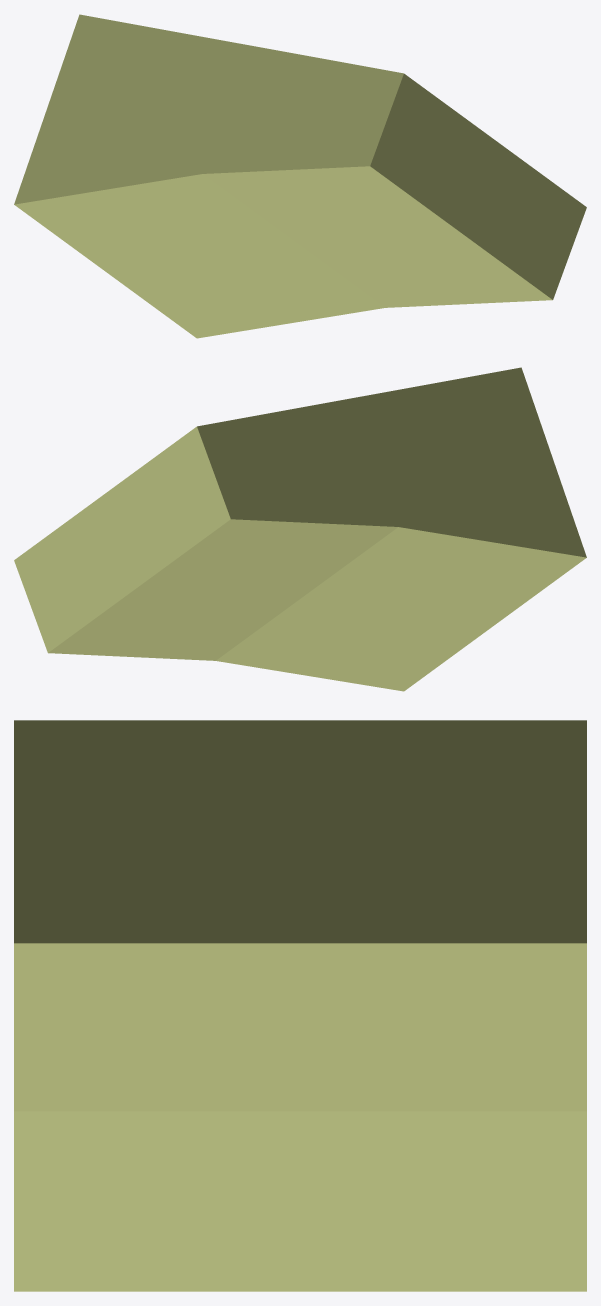
3 renders of one model, top to bottom at view 1: azimuth 30°, elevation 25°; view 2: azimuth 150°, elevation 25°; view 3: azimuth 270°, elevation 25°, orthographic. The views are drawn at different scales.
Visible parts, largest first — view 1: 0_1_1_3_3_0_1_2_2_1_2; view 2: 0_1_1_3_3_0_1_2_2_1_2; view 3: 0_1_1_3_3_0_1_2_2_1_2.
Boxes of the visible parts, left/top/right/bottom form: 0_1_1_3_3_0_1_2_2_1_2: left=14, top=14, right=586, bottom=338; 0_1_1_3_3_0_1_2_2_1_2: left=14, top=367, right=586, bottom=691; 0_1_1_3_3_0_1_2_2_1_2: left=14, top=720, right=586, bottom=1291.
Size of the model in its own units: 11.08 by 6.05 by 9.
